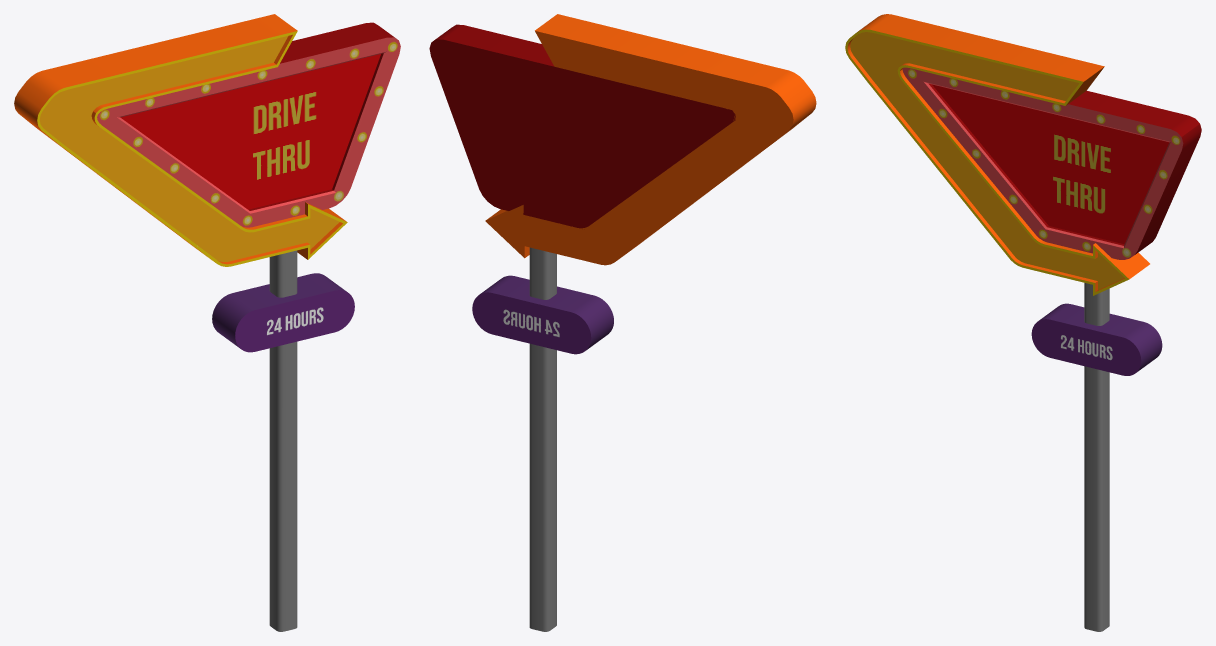
File: drive thru board triangle.fbx
The picture shows the model from 3 angles, left to right: view 1: azimuth 30°, elevation 25°; view 2: azimuth 150°, elevation 25°; view 3: azimuth 330°, elevation 25°; orthographic projection. The views are drawn at different scales.
Parts seen in each view (by area): view 1: drive thru, pijl, paal, 24 hours; view 2: drive thru, pijl, paal, 24 hours; view 3: drive thru, pijl, paal, 24 hours.
Part boxes in pixels (<box>): drive thru: <box>97,22,400,227</box>; pijl: <box>14,14,347,266</box>; paal: <box>269,250,297,631</box>; 24 hours: <box>212,273,354,352</box>; drive thru: <box>429,24,735,228</box>; pijl: <box>485,14,816,265</box>; paal: <box>529,247,556,631</box>; 24 hours: <box>472,275,613,354</box>; drive thru: <box>902,67,1201,259</box>; pijl: <box>845,14,1149,295</box>; paal: <box>1084,283,1109,631</box>; 24 hours: <box>1031,303,1162,375</box>.
Size of the model in its own units: 367 by 580 by 45.
